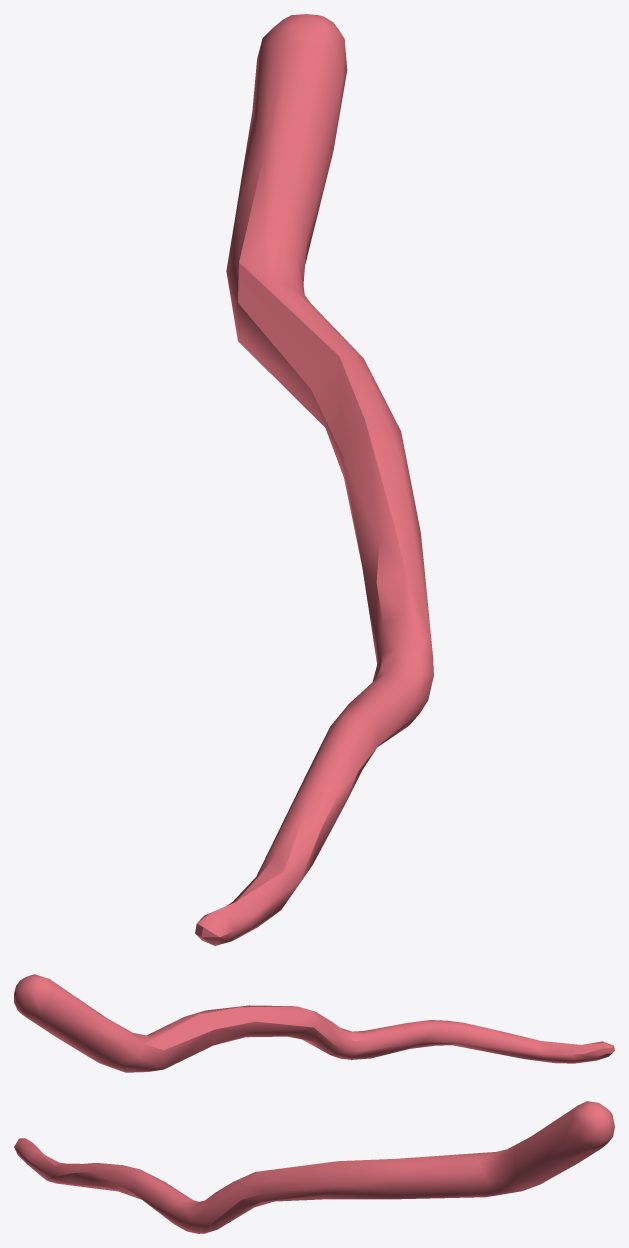
Rendered from fma66403_fj2661.glb.
3 renders of one model, top to bottom at view 1: azimuth 30°, elevation 25°; view 2: azimuth 150°, elevation 25°; view 3: azimuth 270°, elevation 25°, orthographic. The views are drawn at different scales.
Parts seen in each view (by area): view 1: FMA66403_FJ2661; view 2: FMA66403_FJ2661; view 3: FMA66403_FJ2661.
Part boxes in pixels (box(x1,y1,x2,y2)): FMA66403_FJ2661: box(195, 14, 433, 945); FMA66403_FJ2661: box(14, 974, 614, 1072); FMA66403_FJ2661: box(14, 1101, 614, 1233).
Bounding box in the file's own units: 0.0145 × 0.00838 × 0.0207.
